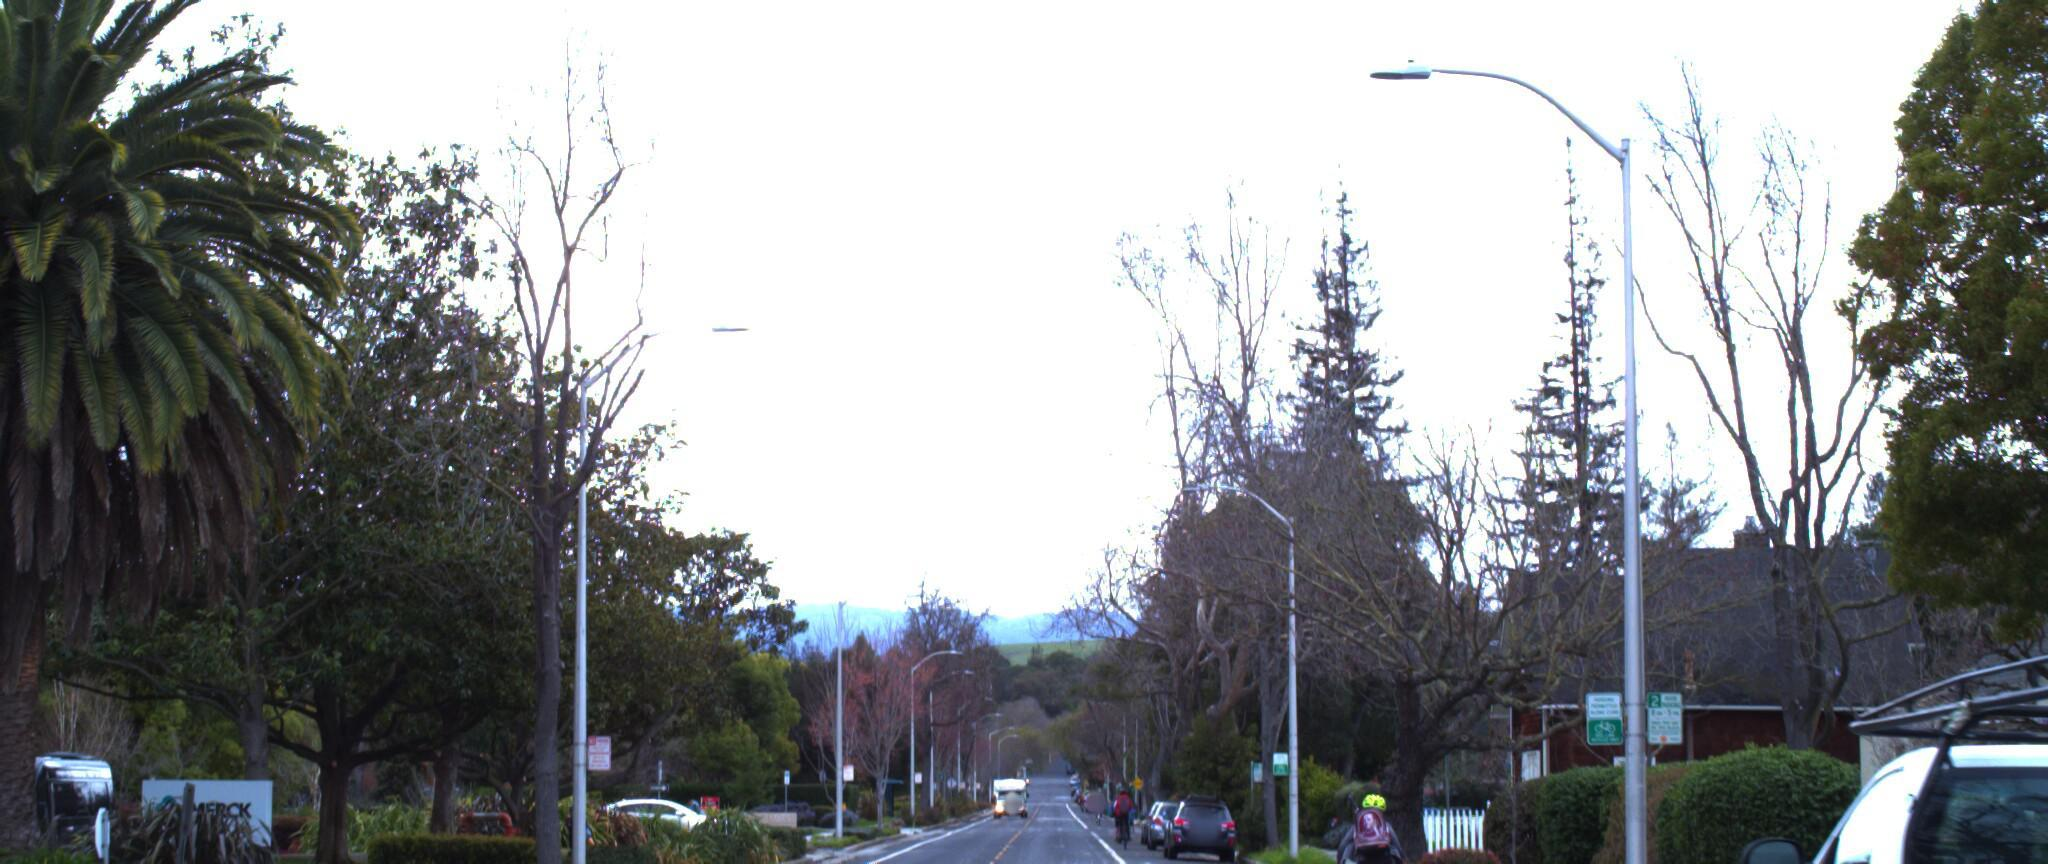bicycle: (1314, 794, 1434, 864)
car: (1654, 653, 2048, 864), (1155, 796, 1243, 864)
